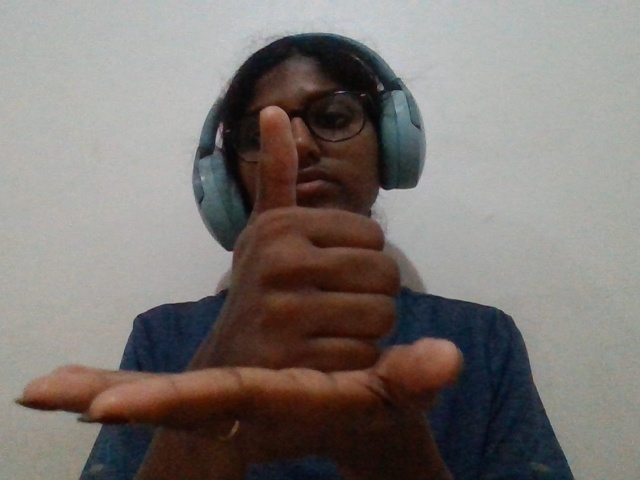Help: (9, 78, 500, 474)
